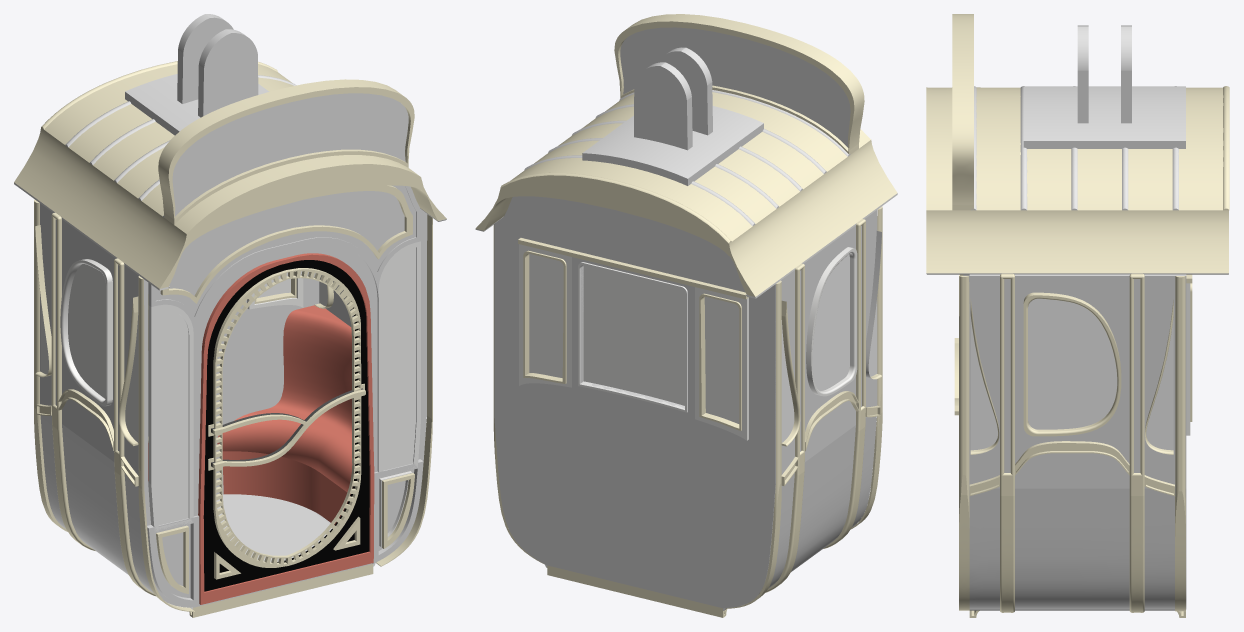
Rendered from cabin.glb.
3 views of the same model, side by side, from view 1: azimuth 30°, elevation 25°; view 2: azimuth 150°, elevation 25°; view 3: azimuth 270°, elevation 25° (orthographic). The views are drawn at different scales.
Visible parts, largest first — view 1: cabin_roof_canopy, cabin_body_left_right_top, cabin_seat_back, cabin_body_valance, cabin_body_front_top, cabin_window_front_left_top, cabin_window_front_right_top, cabin_hook, cabin_door_base, cabin_door_body, cabin_body_int_front, cabin_door_trim_red_02 (+22 smaller); view 2: cabin_body_left_right_top, cabin_roof_canopy, cabin_hook, cabin_window_back_center, cabin_body_valance, cabin_window_back_right, cabin_window_back_left, cabin_window_left_center, cabin_trim_window_ext_back_center, cabin_trim_base_left_front, cabin_trim_base_left_back.001, cabin_trim_window_ext_center (+15 smaller); view 3: cabin_roof_canopy, cabin_body_left_right_top, cabin_hook, cabin_window_right_center, cabin_trim_base_side_right_back, cabin_trim_base_side_right_front, cabin_trim_edge_back_right, cabin_trim_edge_front_right, cabin_trim_window_ext_right_center.001, cabin_window_right_front, cabin_window_right_back, cabin_trim_base_side_right_center (+9 smaller).
Part boxes in pixels (box(x1,y1,x2,y2)): cabin_roof_canopy: box(14, 64, 446, 288); cabin_body_left_right_top: box(40, 203, 427, 607); cabin_seat_back: box(217, 305, 354, 515); cabin_body_valance: box(172, 93, 408, 216); cabin_body_front_top: box(148, 185, 420, 345); cabin_window_front_left_top: box(148, 304, 193, 531); cabin_window_front_right_top: box(377, 241, 420, 477); cabin_hook: box(125, 14, 269, 135); cabin_door_base: box(203, 260, 369, 591); cabin_door_body: box(213, 268, 361, 567); cabin_body_int_front: box(193, 242, 377, 516); cabin_door_trim_red_02: box(198, 253, 374, 604); cabin_body_left_right_top: box(494, 196, 877, 608); cabin_roof_canopy: box(476, 14, 897, 296); cabin_hook: box(582, 47, 763, 185); cabin_window_back_center: box(583, 265, 684, 405); cabin_body_valance: box(620, 27, 850, 147); cabin_window_back_right: box(704, 296, 739, 423); cabin_window_back_left: box(529, 254, 563, 377); cabin_window_left_center: box(812, 254, 849, 391); cabin_trim_window_ext_back_center: box(572, 257, 694, 418); cabin_trim_base_left_front: box(823, 219, 865, 548); cabin_trim_base_left_back.001: box(765, 263, 804, 592); cabin_trim_window_ext_center: box(806, 247, 857, 396); cabin_roof_canopy: box(926, 14, 1228, 273); cabin_body_left_right_top: box(969, 274, 1186, 609); cabin_hook: box(1023, 25, 1185, 148); cabin_window_right_center: box(1028, 298, 1117, 429); cabin_trim_base_side_right_back: box(1129, 273, 1144, 612); cabin_trim_base_side_right_front: box(1000, 273, 1014, 612); cabin_trim_edge_back_right: box(1175, 276, 1185, 611); cabin_trim_edge_front_right: box(959, 276, 969, 610); cabin_trim_window_ext_right_center.001: box(1023, 292, 1121, 436); cabin_window_right_front: box(970, 317, 997, 450); cabin_window_right_back: box(1146, 318, 1173, 450); cabin_trim_base_side_right_center: box(1015, 441, 1129, 475).
Bounding box in the file's own units: 0.083 × 0.1391 × 0.0701.
